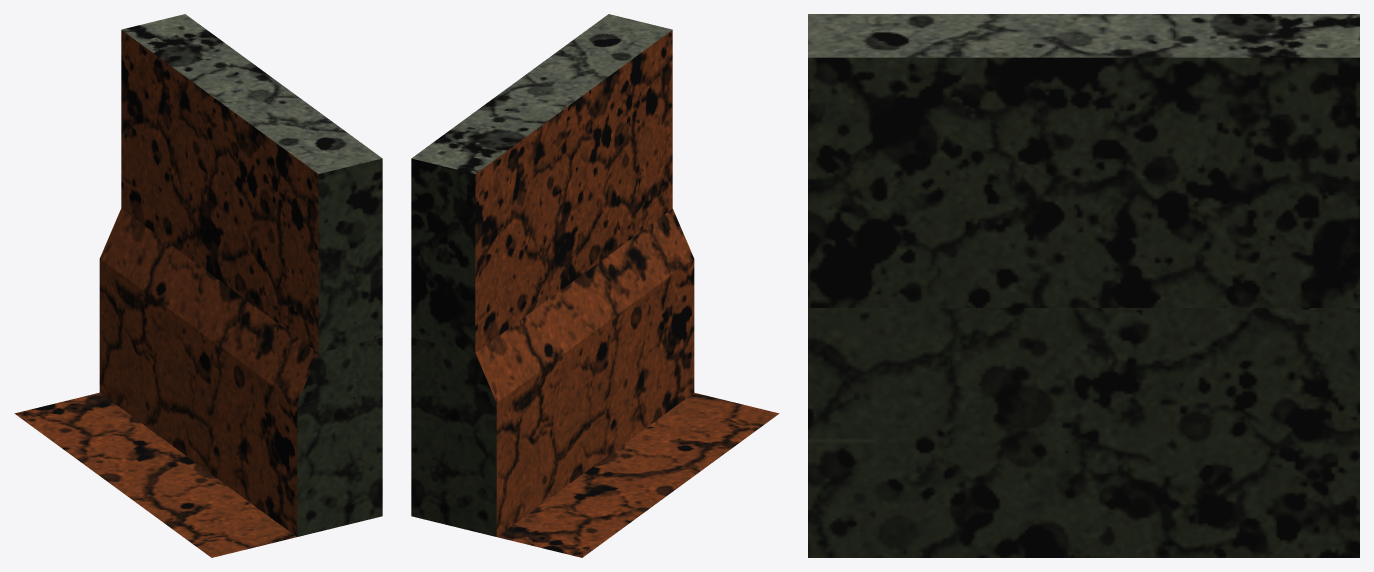
Rendered from Env_Ctn_Wall_CW.fbx.
The picture shows the model from 3 angles, left to right: view 1: azimuth 30°, elevation 25°; view 2: azimuth 150°, elevation 25°; view 3: azimuth 270°, elevation 25°; orthographic projection. The views are drawn at different scales.
Parts seen in each view (by area): view 1: Wall_Top, Wall, Floor_Edge; view 2: Wall_Top, Wall, Floor_Edge; view 3: Wall_Top, Wall.
Boxes of the visible parts, left/top/right/bottom form: Wall_Top: left=121, top=14, right=382, bottom=352; Wall: left=99, top=208, right=382, bottom=536; Floor_Edge: left=14, top=392, right=296, bottom=557; Wall_Top: left=411, top=14, right=672, bottom=352; Wall: left=411, top=208, right=694, bottom=536; Floor_Edge: left=497, top=392, right=779, bottom=557; Wall_Top: left=808, top=14, right=1359, bottom=307; Wall: left=808, top=308, right=1359, bottom=557.
Size of the model in its own units: 100 by 200 by 200.
